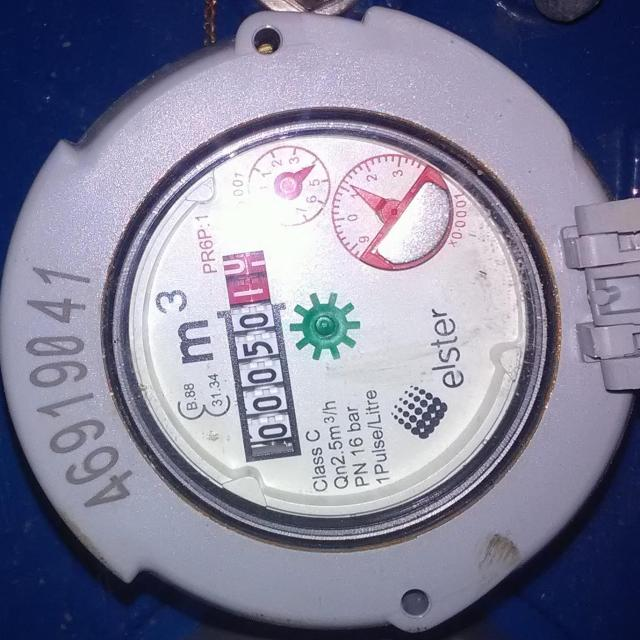gaz_meter: (124, 122, 530, 523)
indication: (202, 247, 297, 453)
